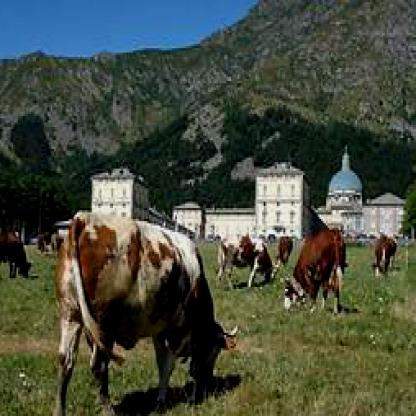cow: (44, 212, 241, 414), (282, 228, 344, 320), (214, 232, 278, 293), (2, 228, 34, 282), (367, 237, 398, 278)
